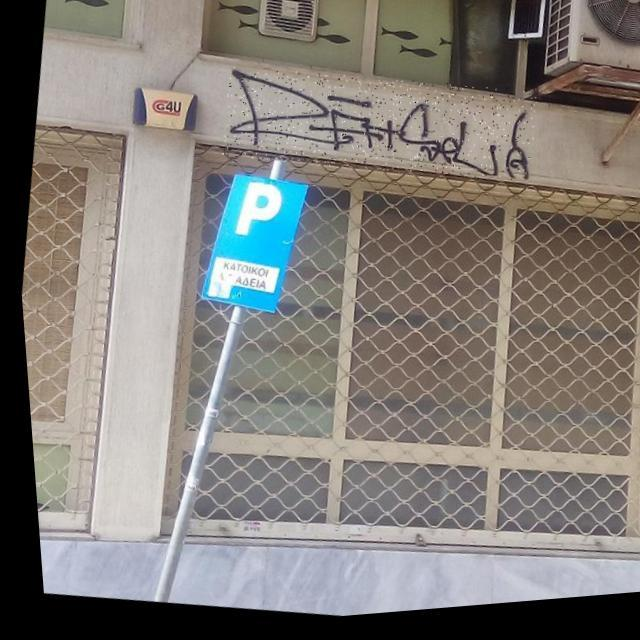-: (214, 52, 540, 210)
